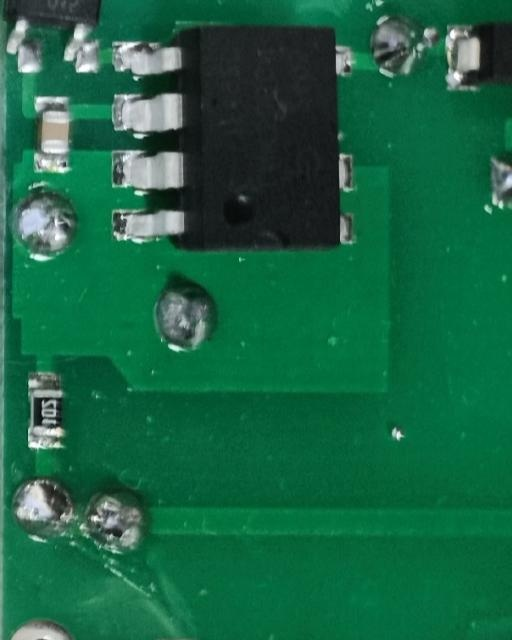chip-capacitor: (29, 95, 70, 177)
chip-resistor: (25, 370, 66, 452)
ic: (105, 14, 353, 258)
